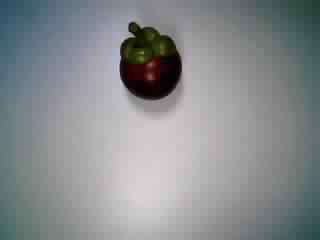mangosteen: (109, 18, 189, 104)
